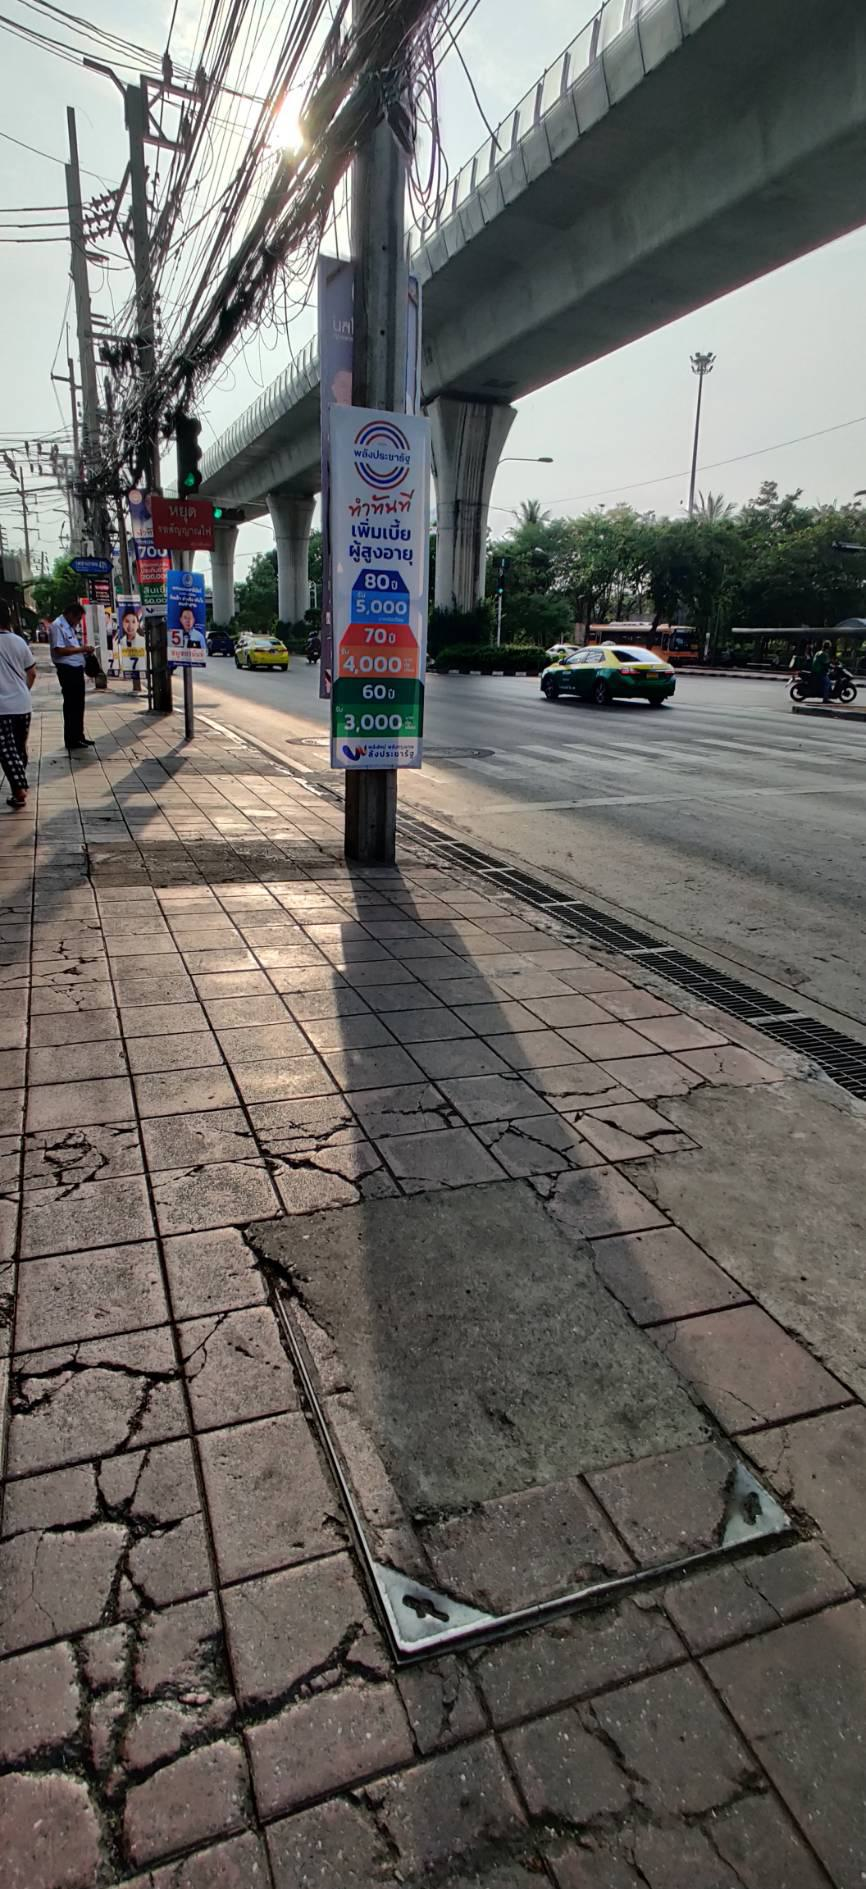Banner: (330, 405, 426, 771), (160, 571, 208, 664)
